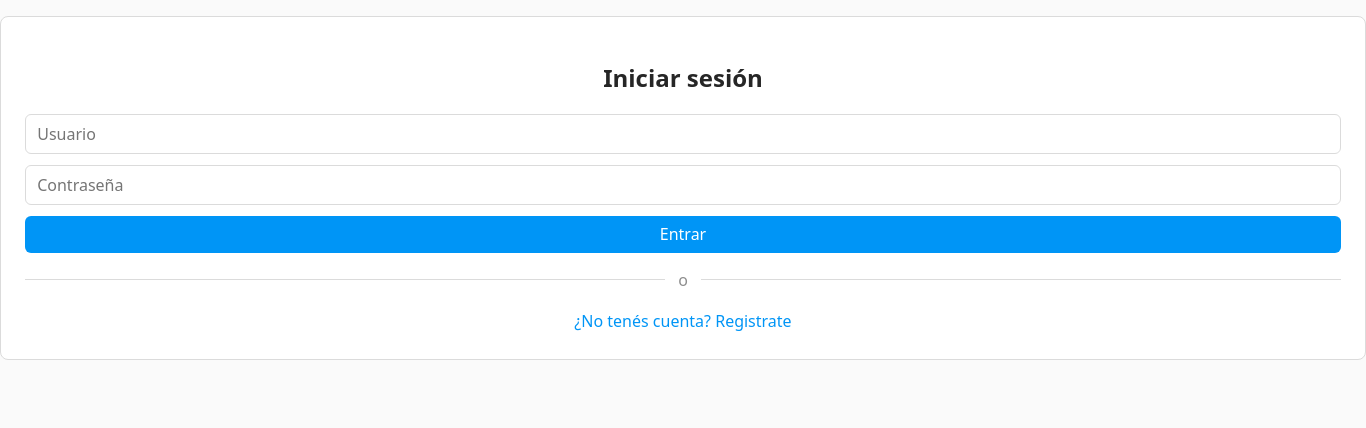
AuthPage › arranca en modo login y cambia a registro
This screenshot has width=1366, height=428.
Expected: the heading "Iniciar sesión" is shown, x1=603 y1=61 x2=763 y2=94
Expected: the field with placeholder "Email" is not shown
Click the button "¿No tenés cuenta? Registrate" at (683, 321), box x1=571 y1=307 x2=795 y2=335
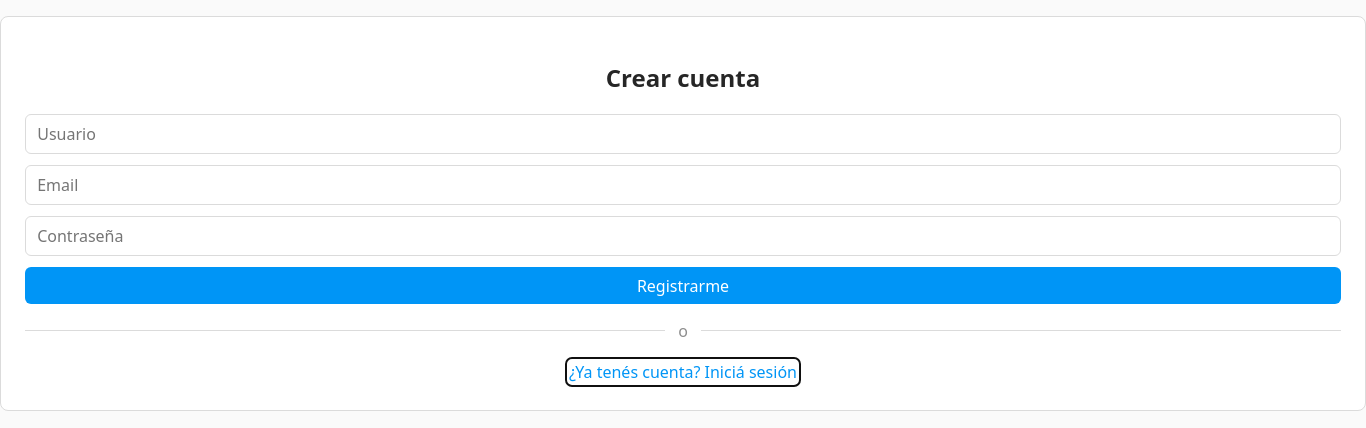
Now the heading "Crear cuenta" is shown, box x1=606 y1=61 x2=760 y2=94
Now the field with placeholder "Email" is shown, box x1=25 y1=165 x2=1341 y2=205
